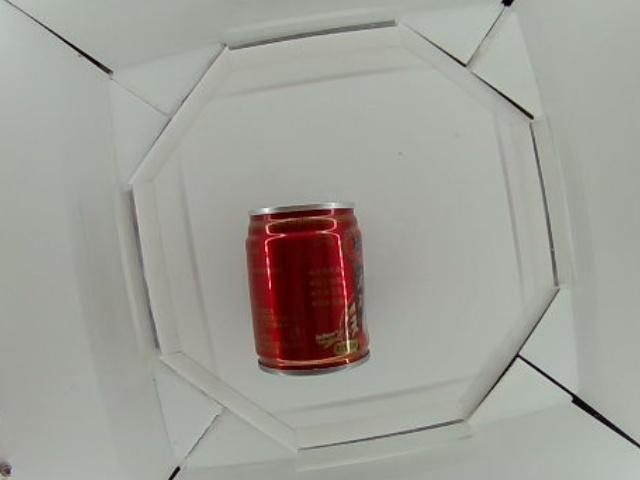Bottle: (242, 202, 372, 381)
